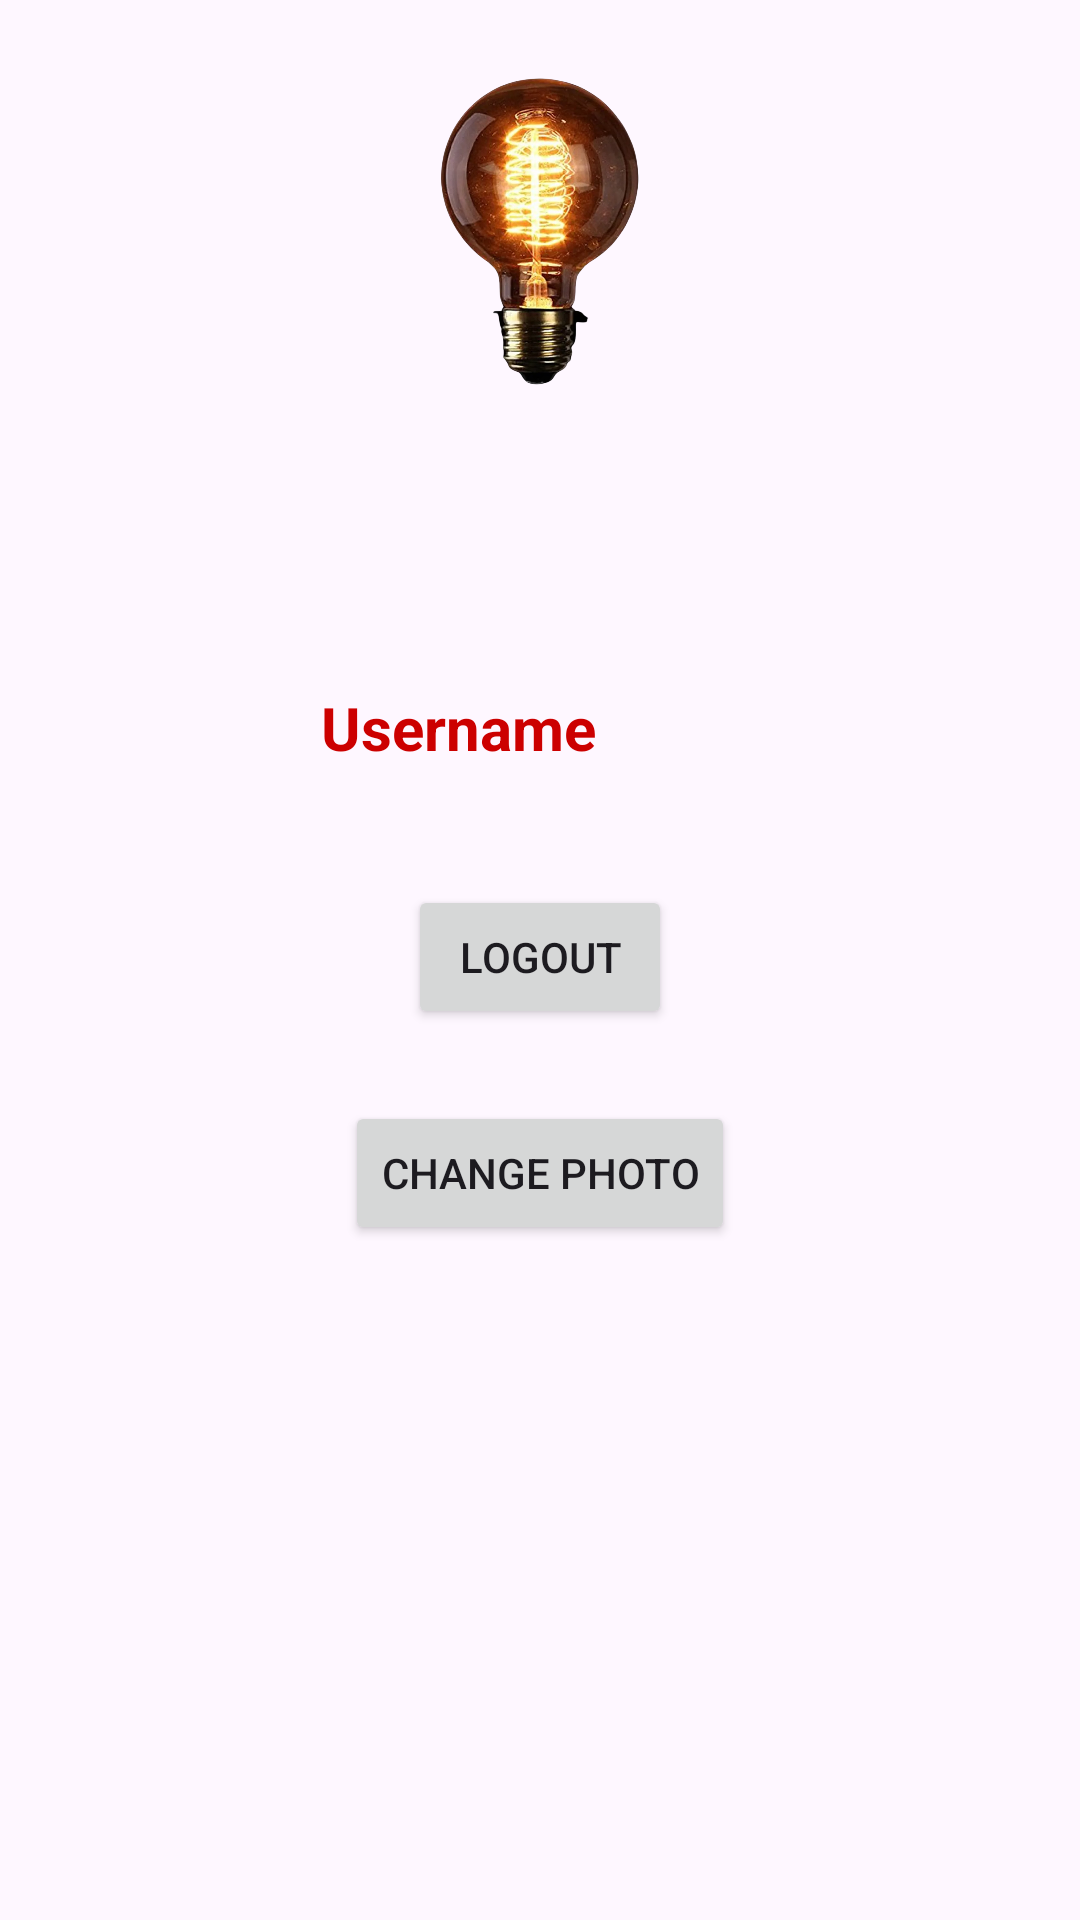

Screen size 1080*1920. Icon name, then its box in pixels as region(x1, y1, x2, y2):
led: region(441, 78, 639, 385)
